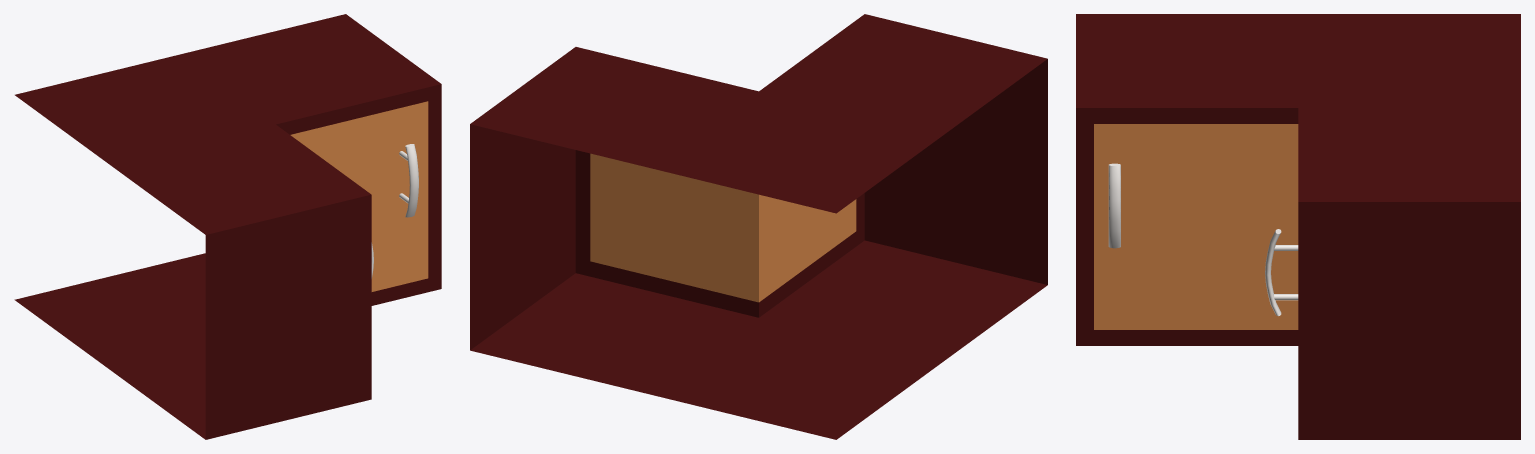
File: Corner Counter.fbx
3 renders of one model, left to right at view 1: azimuth 30°, elevation 25°; view 2: azimuth 150°, elevation 25°; view 3: azimuth 270°, elevation 25°, orthographic. The views are drawn at different scales.
Visible parts, largest first — view 1: Corner Counter; view 2: Corner Counter; view 3: Corner Counter.
Part boxes in pixels (<box>): Corner Counter: <box>14,14,441,439</box>; Corner Counter: <box>470,14,1047,439</box>; Corner Counter: <box>1076,14,1520,439</box>.
Size of the model in its own units: 100 by 100 by 59.06.
